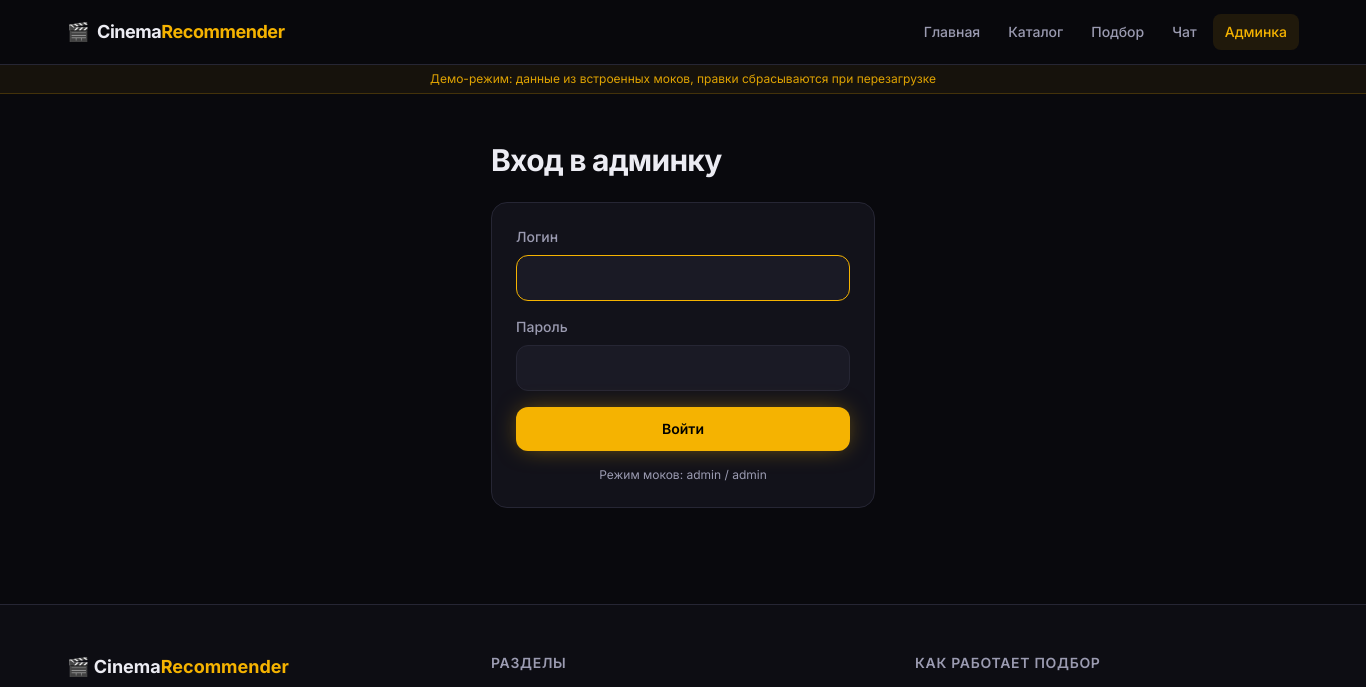
Scenario: Вход в админку › без входа показывает форму, с неверным паролем — ошибку, после входа — админку и выход
Expected: the heading "Вход в админку" is shown, [491, 142, 722, 178]
In the field labelled "Логин": (683, 278) [516, 255, 850, 301], type "admin"
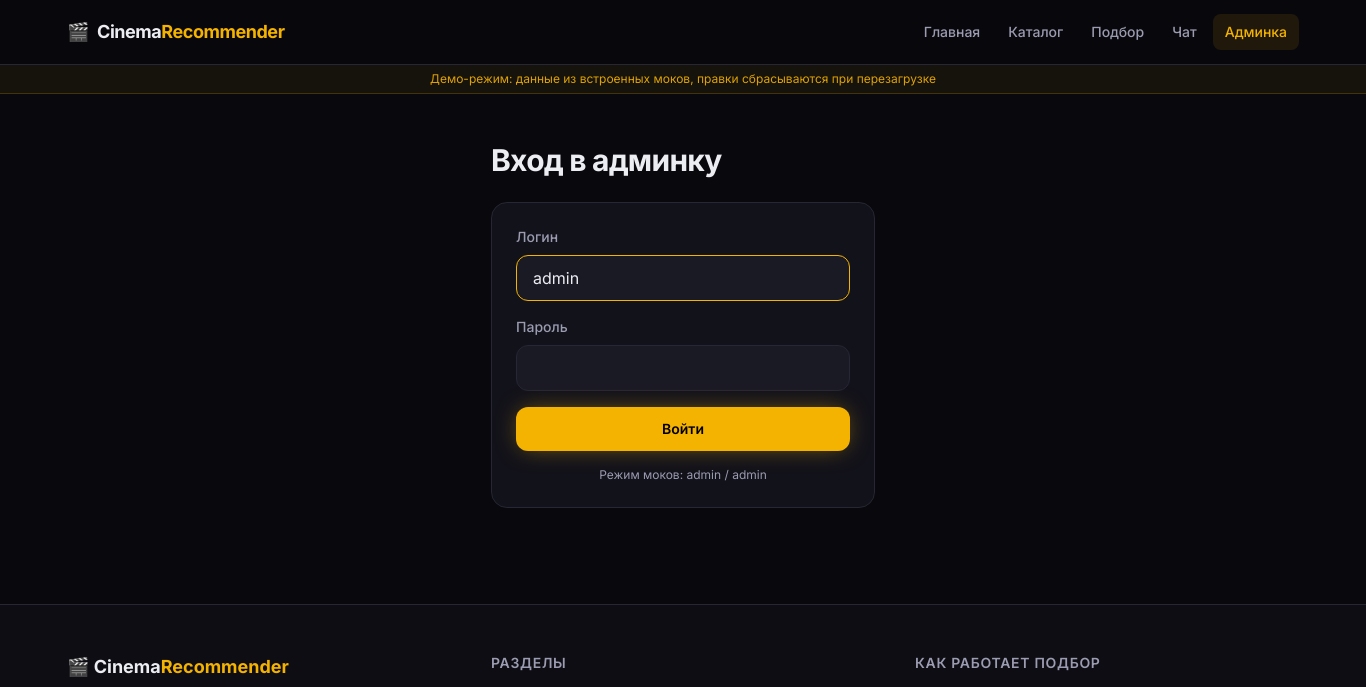
In the password field labelled "Пароль": (683, 368) [516, 345, 850, 391], type "неверный"
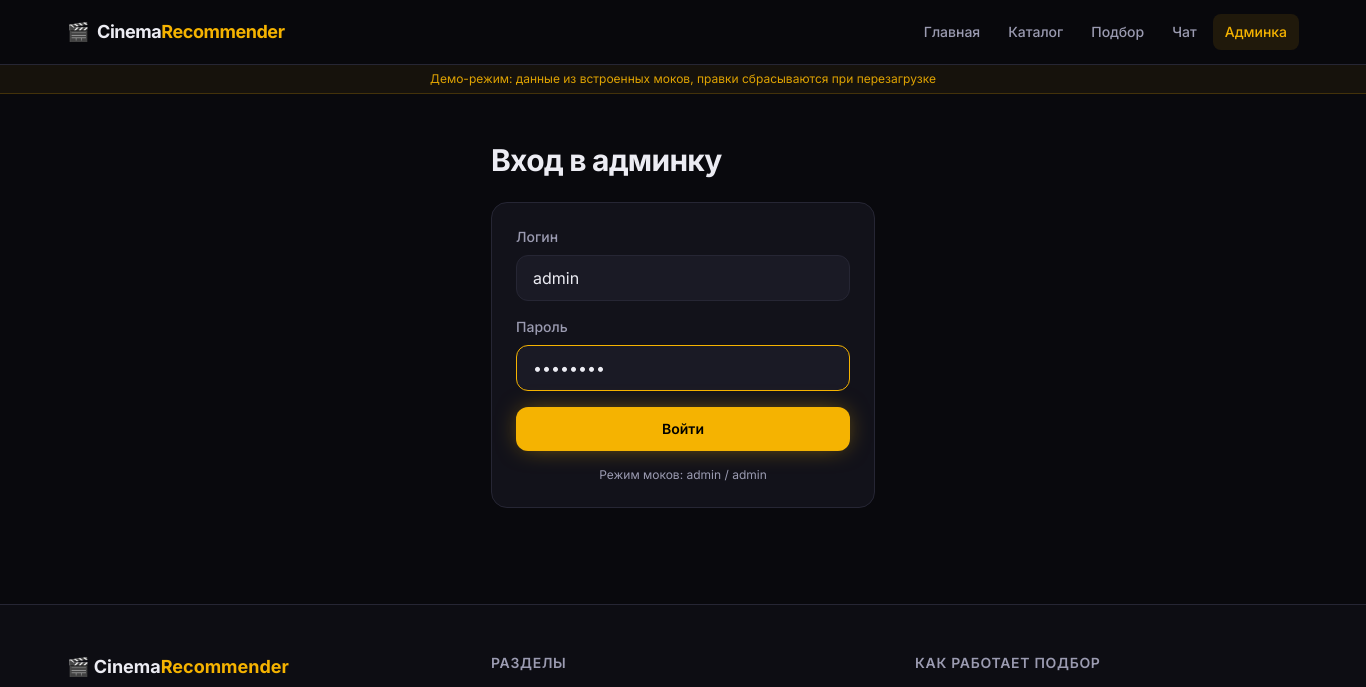
Click the button "Войти": (683, 429) [516, 407, 850, 451]
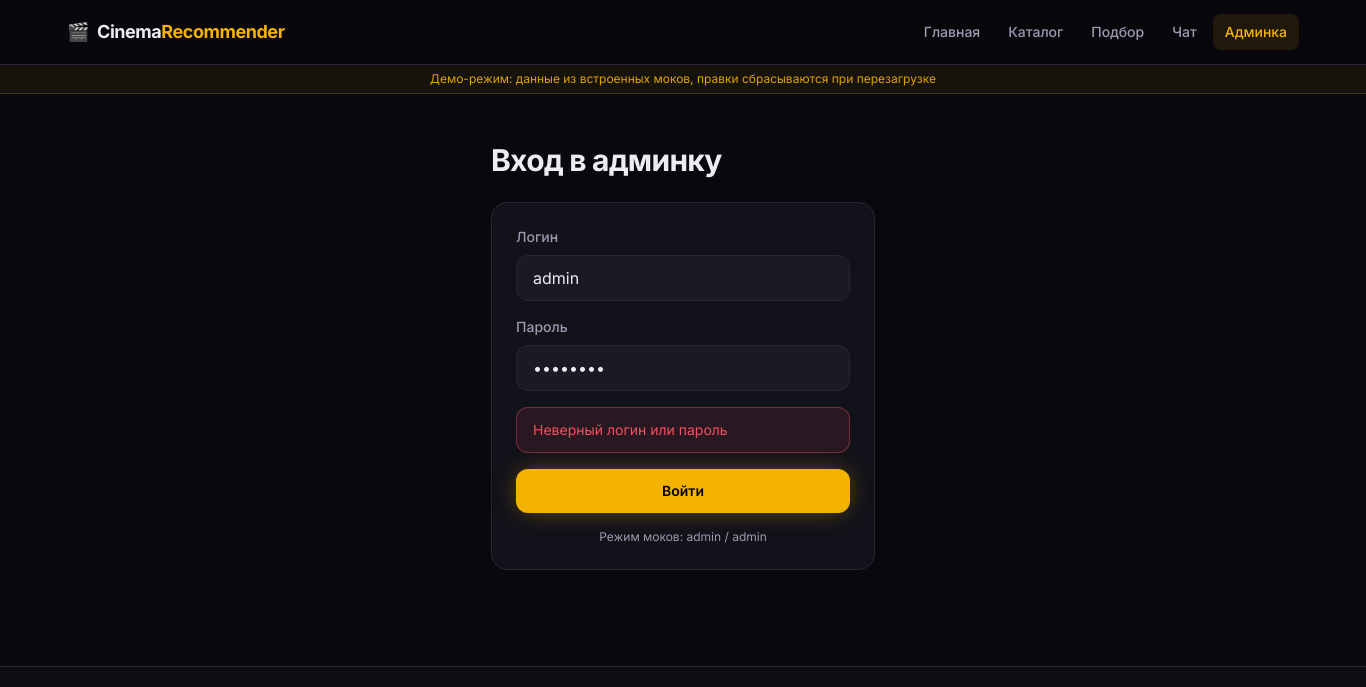
Result: the message reads "Неверный логин или пароль" at [533, 421, 728, 438]
In the password field labelled "Пароль": (683, 368) [516, 345, 850, 391], type "admin"
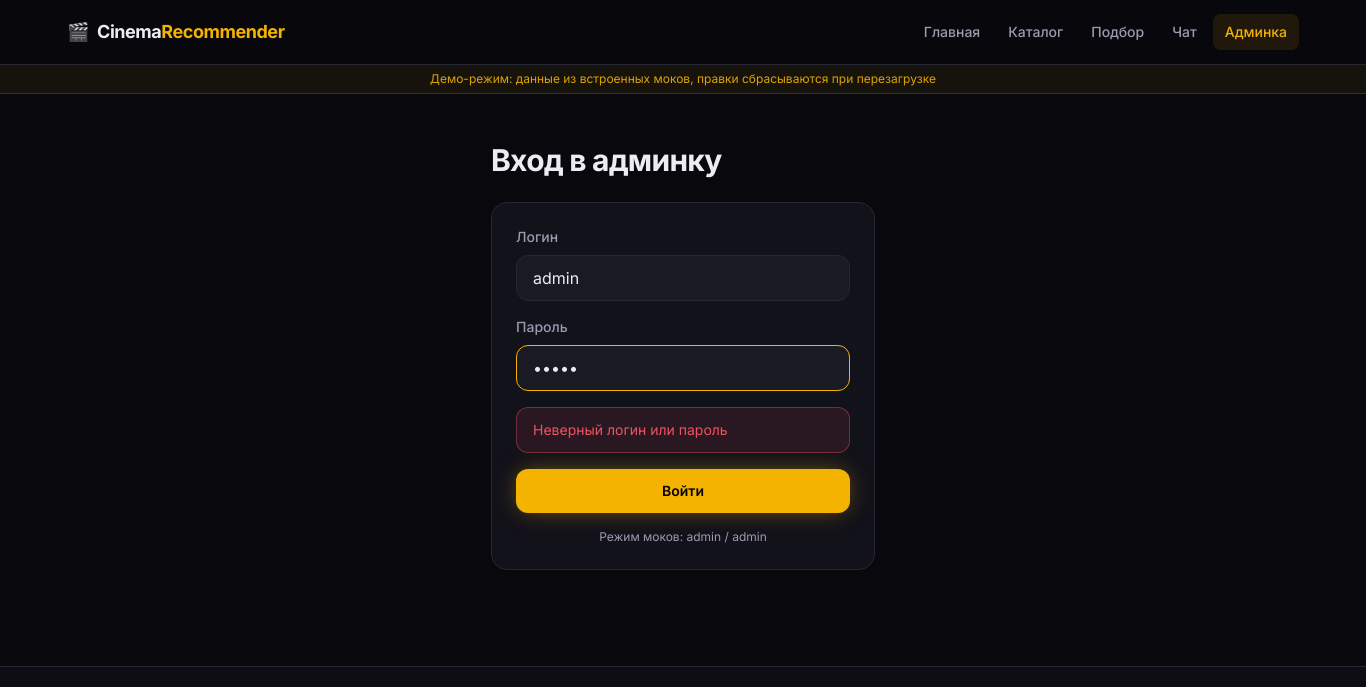
Click the button "Войти": (683, 491) [516, 469, 850, 513]
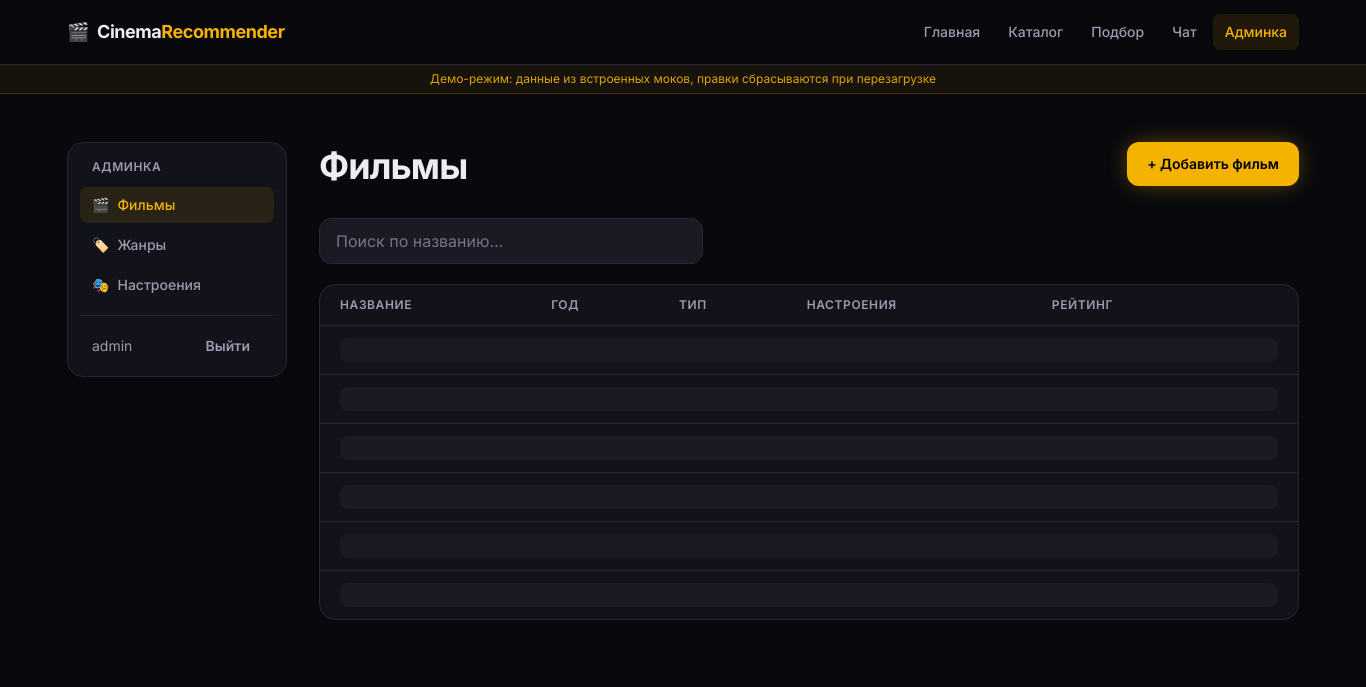
Result: the navigation bar named "Разделы админки" is shown at [80, 187, 274, 303]
Result: the heading "Фильмы" is shown at [319, 146, 467, 186]
Click the button "Выйти": (228, 346) [194, 328, 262, 364]
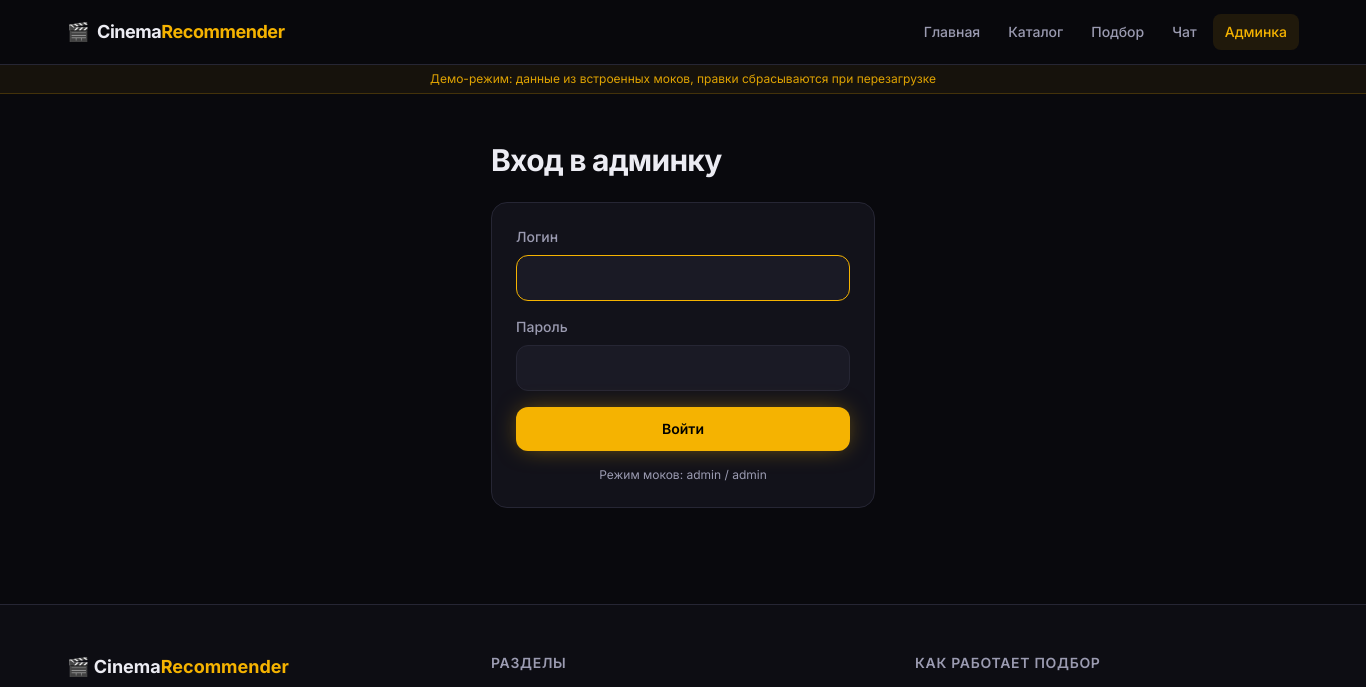
Result: the heading "Вход в админку" is shown at [491, 142, 722, 178]
